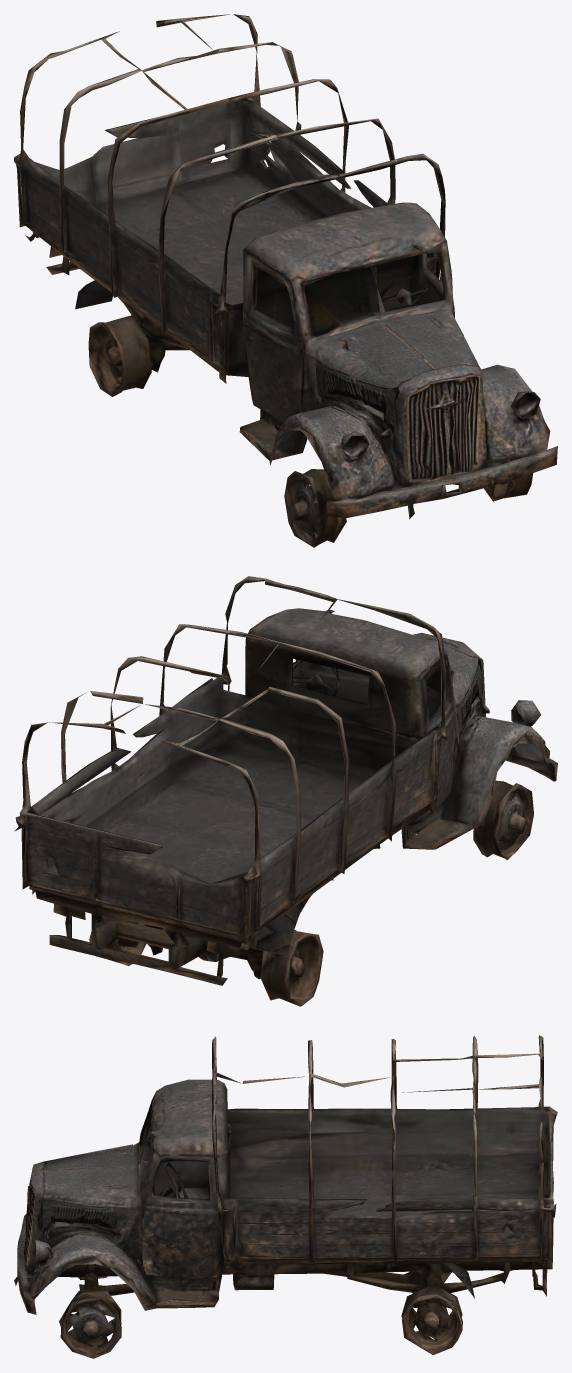
Rendered from wreck_truck.glb.
The picture shows the model from 3 angles, top to bottom: view 1: azimuth 30°, elevation 25°; view 2: azimuth 150°, elevation 25°; view 3: azimuth 270°, elevation 25°; orthographic projection. The views are drawn at different scales.
Parts seen in each view (by area): view 1: tripo_node_9d79ed41-8fd4-4351-be54-039d38dec87b; view 2: tripo_node_9d79ed41-8fd4-4351-be54-039d38dec87b; view 3: tripo_node_9d79ed41-8fd4-4351-be54-039d38dec87b.
Boxes of the visible parts, x1,y1,x2,y2 form: tripo_node_9d79ed41-8fd4-4351-be54-039d38dec87b: [14, 14, 557, 547]; tripo_node_9d79ed41-8fd4-4351-be54-039d38dec87b: [14, 576, 557, 1006]; tripo_node_9d79ed41-8fd4-4351-be54-039d38dec87b: [14, 1035, 557, 1358].
Bounding box in the file's own units: 0.4204 × 0.4938 × 0.9808.
1 material, 1 textured.
